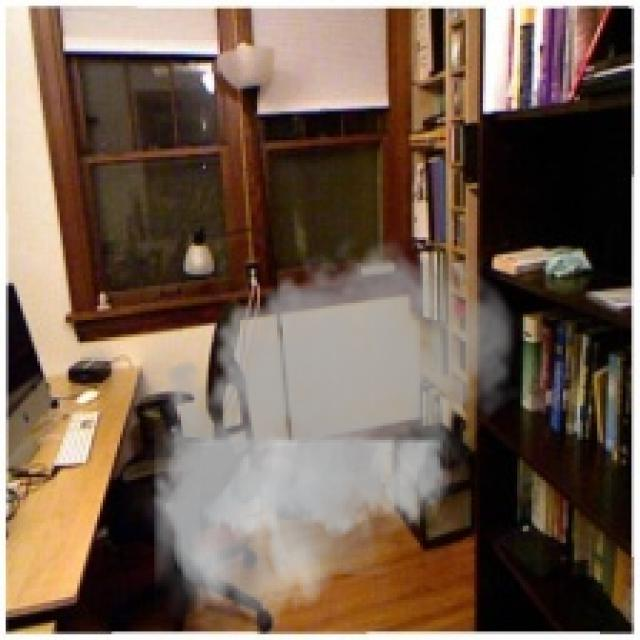smoke: (140, 226, 523, 631)
